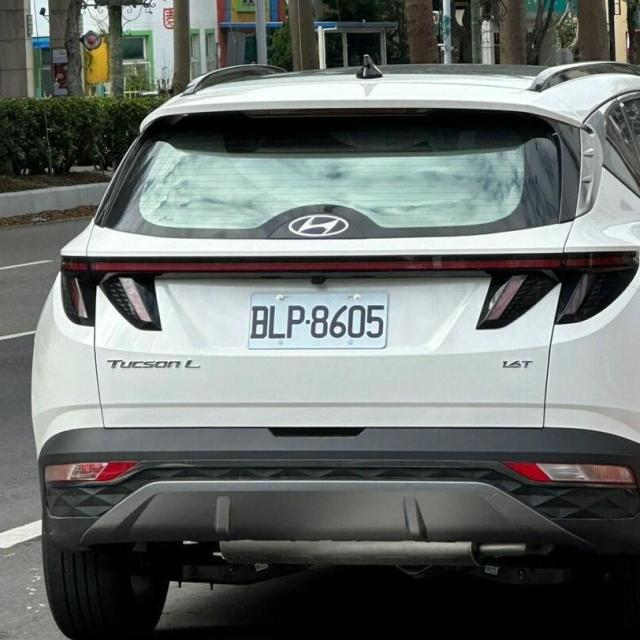W: (240, 283, 396, 359)
